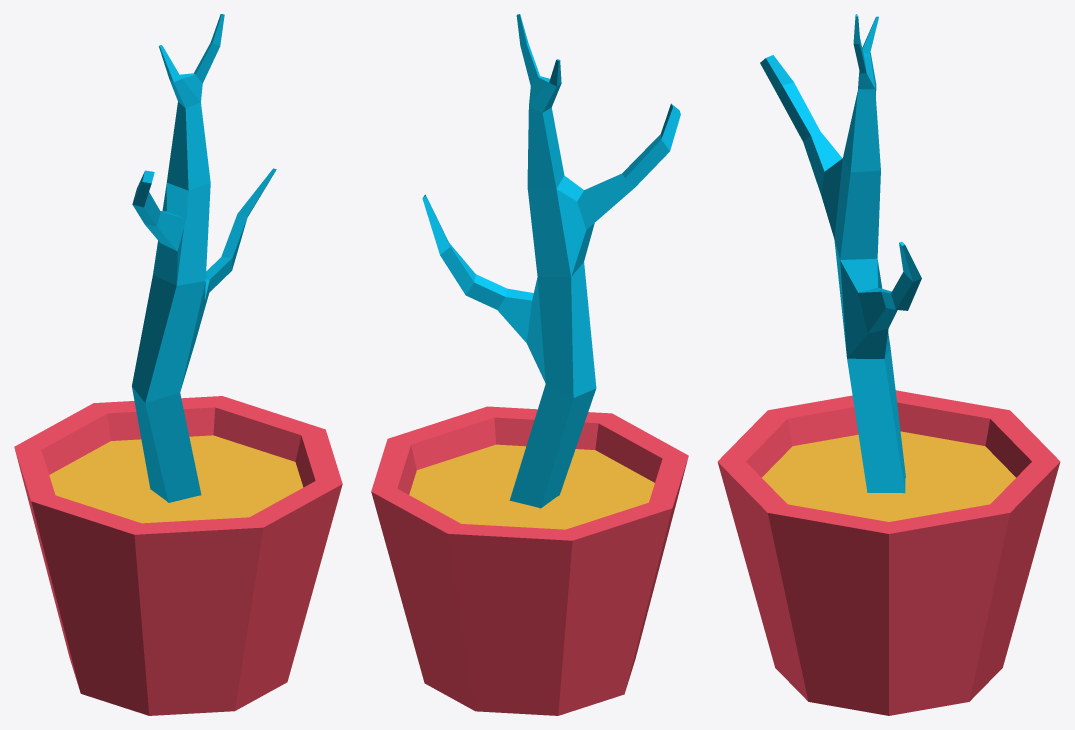
The model's file is FlowerPot.fbx.
3 views of the same model, side by side, from view 1: azimuth 30°, elevation 25°; view 2: azimuth 150°, elevation 25°; view 3: azimuth 270°, elevation 25° (orthographic). The views are drawn at different scales.
Parts seen in each view (by area): view 1: FlowerPot; view 2: FlowerPot; view 3: FlowerPot.
Boxes of the visible parts, box(x1,y1,x2,y2) form: FlowerPot: box(14, 14, 342, 715); FlowerPot: box(371, 14, 688, 715); FlowerPot: box(717, 14, 1060, 715).
Bounding box in the file's own units: 151 × 323 × 151.
